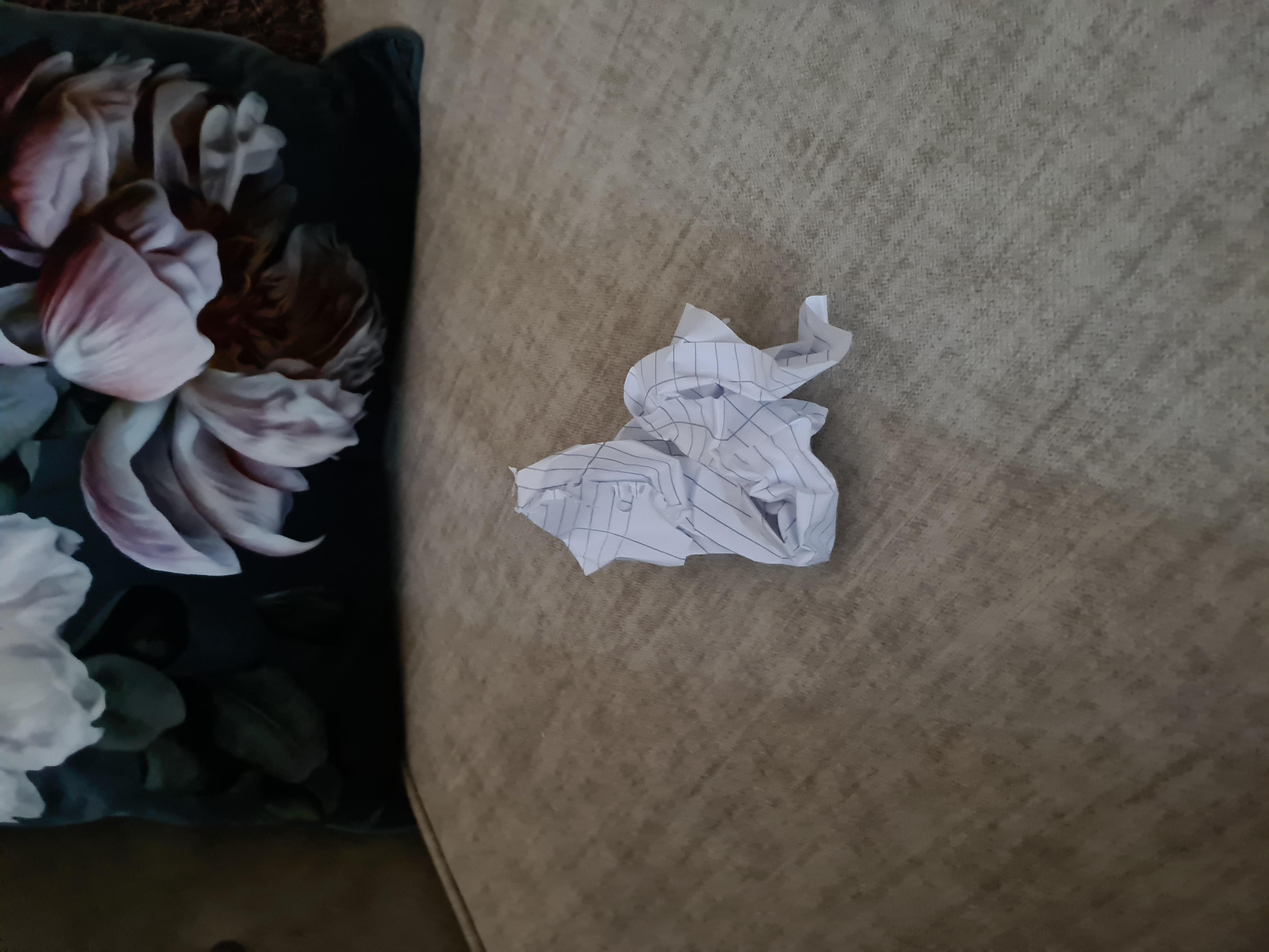paper: (492, 381, 875, 643)
